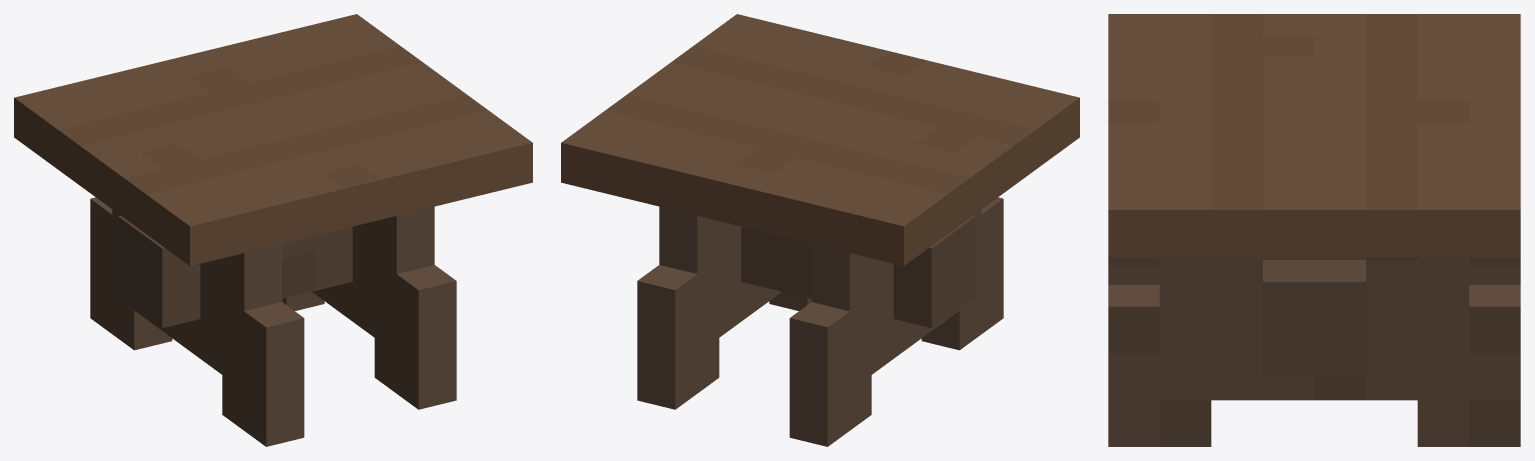
The model's file is taburet.gltf.
3 renders of one model, left to right at view 1: azimuth 30°, elevation 25°; view 2: azimuth 150°, elevation 25°; view 3: azimuth 270°, elevation 25°, orthographic. The views are drawn at different scales.
Visible parts, largest first — view 1: cube (×10); view 2: cube (×10); view 3: cube (×7).
Part boxes in pixels (box(x1,y1,x2,y2)): cube (×10): box(14, 14, 532, 446); cube (×10): box(561, 14, 1079, 446); cube (×7): box(1108, 14, 1520, 446).
Size of the model in its own units: 0.5625 by 0.375 by 0.5.
Materials: 1 (1 with a texture image).
